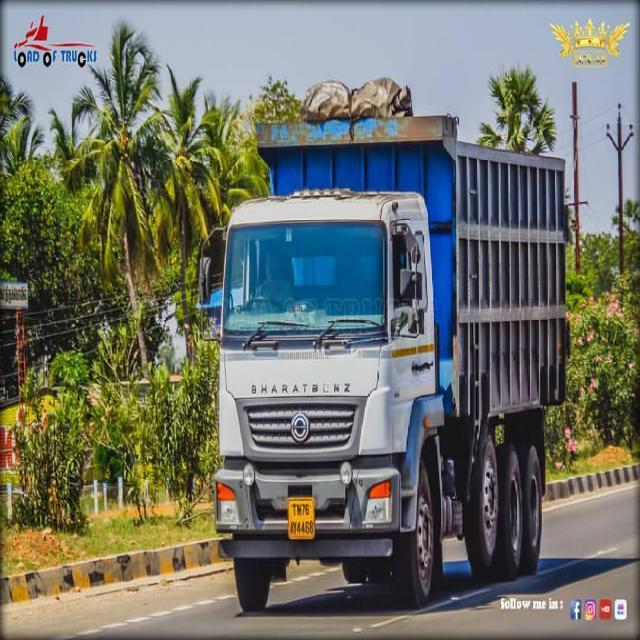Truck: (194, 106, 566, 613)
